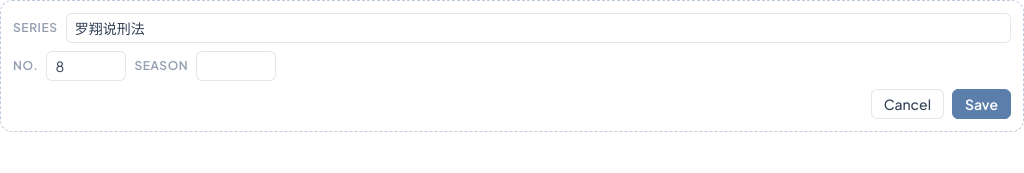
Test case: DigestFacets edit › invalid number 0 blocks save
Replace the text in the field labelled "No." with "0" at (86, 66), box [46,51,126,81]
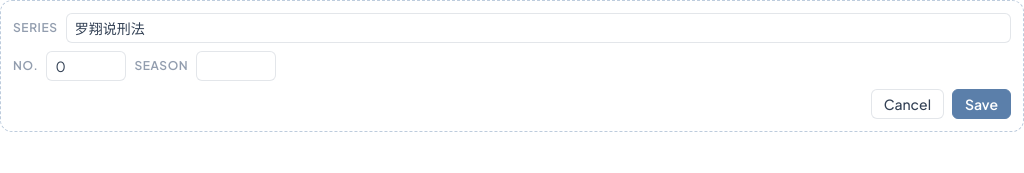
Click the button "Save" at (982, 104), box [952,89,1011,119]
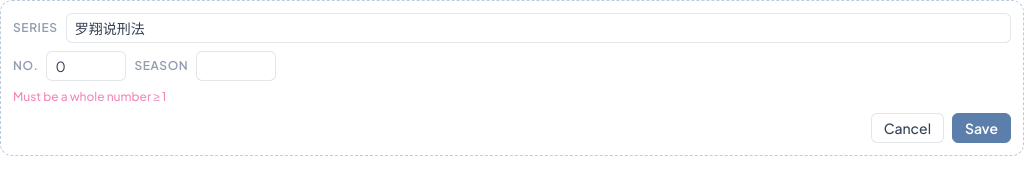
expect the text "Must be a whole number ≥ 1" is shown: met, box [13,89,166,104]
